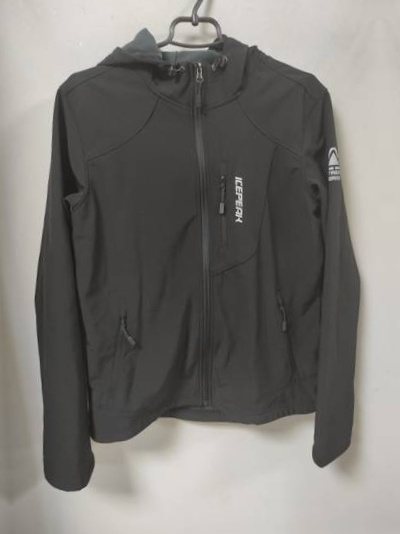Hoodie: (12, 19, 375, 496)
